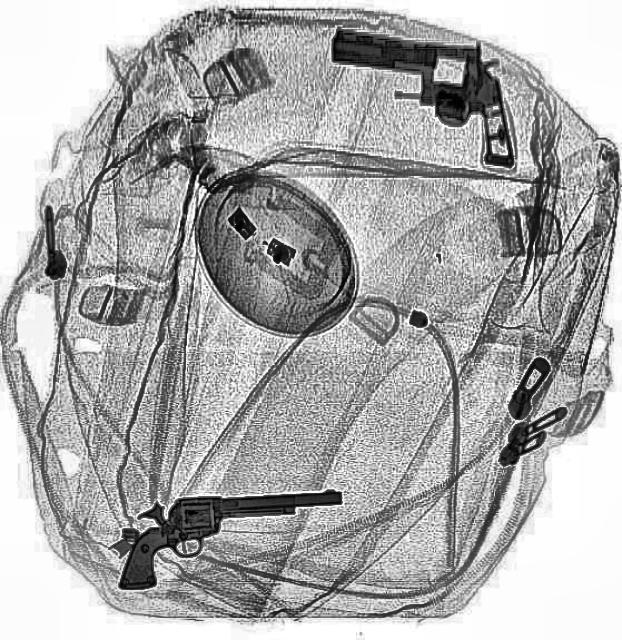Gun: (318, 30, 528, 164), (112, 486, 346, 590)
